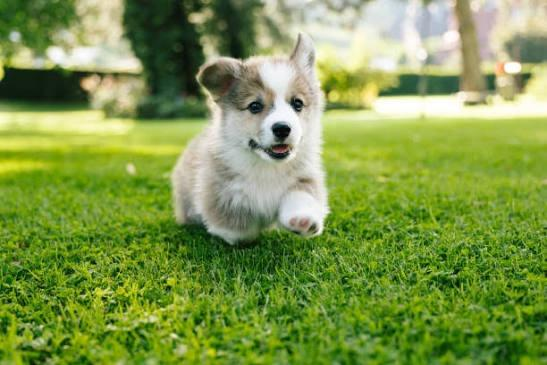puppy-dog: (170, 31, 331, 247)
